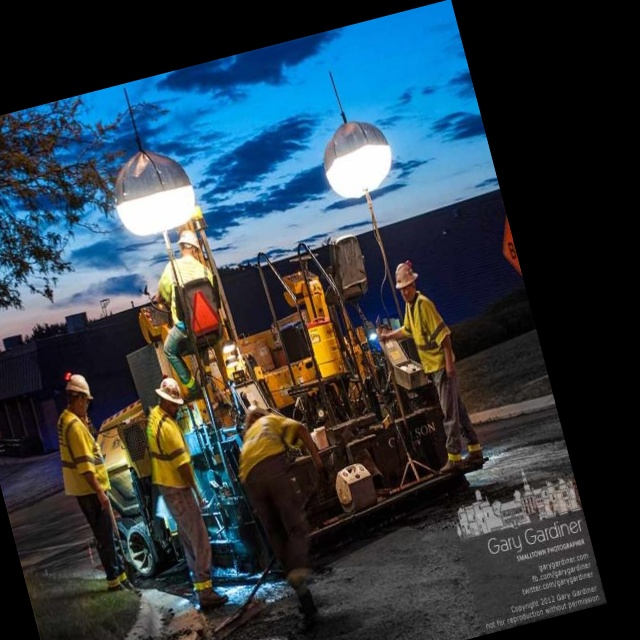Con_Casco: (151, 375, 187, 418), (62, 370, 96, 411), (390, 259, 423, 298)
Con_Chaleco: (47, 408, 113, 504), (398, 291, 458, 376), (140, 408, 197, 493)
